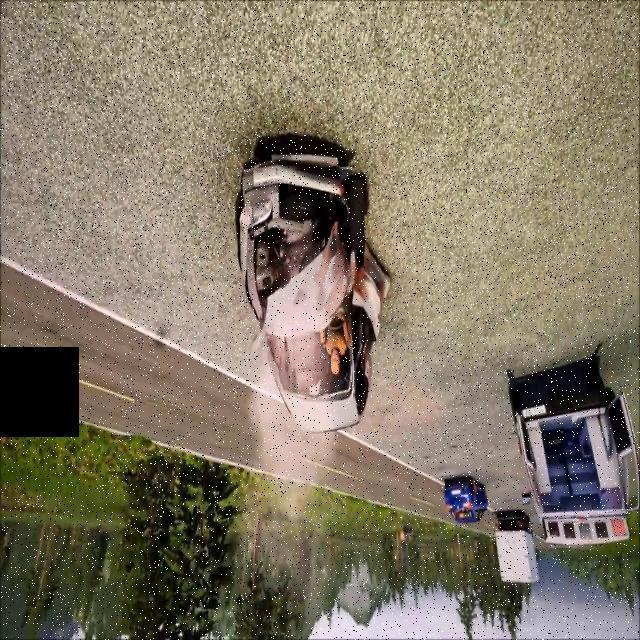severe: (231, 138, 393, 438)
